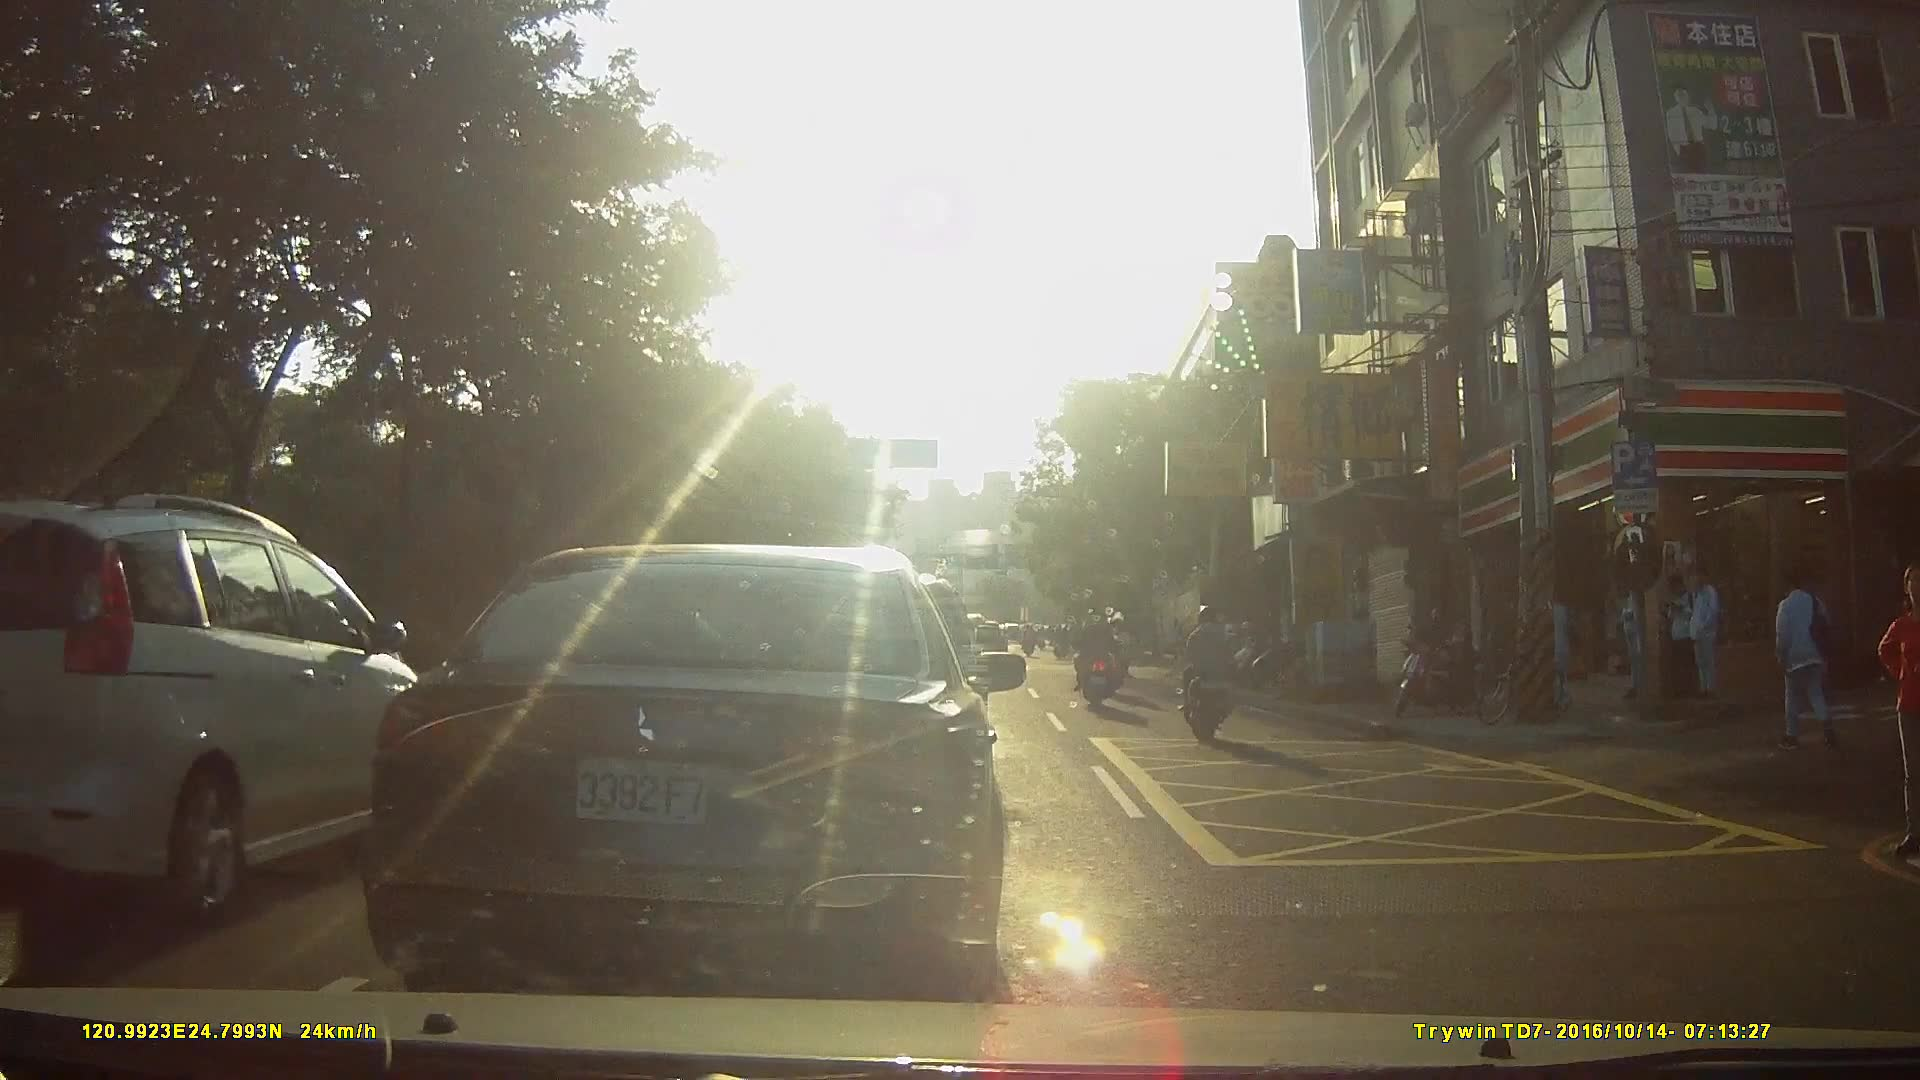pedestrian: (1769, 568, 1840, 758), (1876, 567, 1920, 854), (1527, 580, 1574, 713), (1679, 569, 1722, 701), (1614, 573, 1655, 708), (1662, 567, 1699, 711)
rider: (1180, 603, 1245, 749), (1073, 610, 1123, 712), (1052, 623, 1072, 663), (1020, 625, 1040, 661)
vehicle: (355, 544, 1036, 983), (1, 479, 461, 925)
